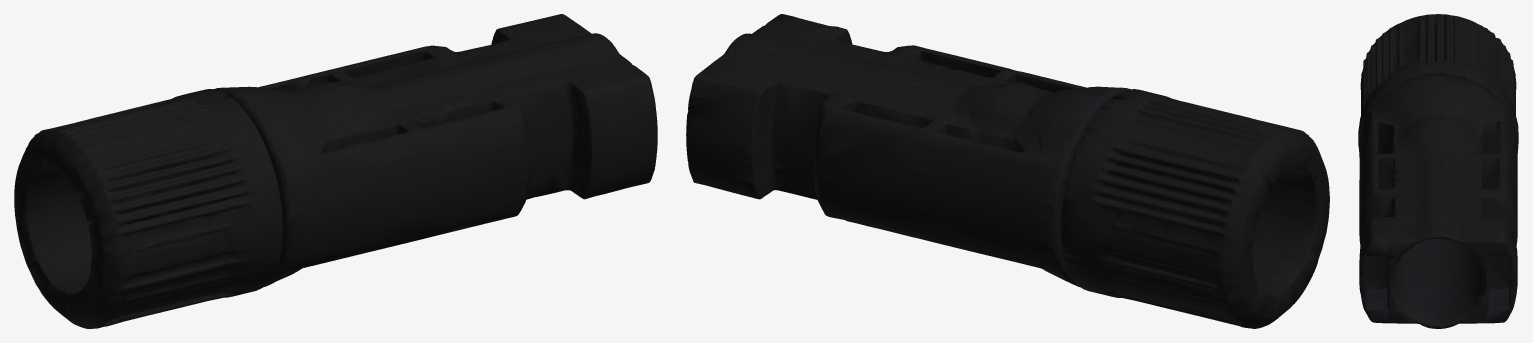
Rendered from Meshy_AI_Black_Cable_Connector_1105095505_texture_lowpoly.obj.
3 views of the same model, side by side, from view 1: azimuth 30°, elevation 25°; view 2: azimuth 150°, elevation 25°; view 3: azimuth 270°, elevation 25° (orthographic). The views are drawn at different scales.
Visible parts, largest first — view 1: Meshy_AI_Black_Cable_Connector_1105095505_texture_lowpoly; view 2: Meshy_AI_Black_Cable_Connector_1105095505_texture_lowpoly; view 3: Meshy_AI_Black_Cable_Connector_1105095505_texture_lowpoly.
Boxes of the visible parts, left/top/right/bottom form: Meshy_AI_Black_Cable_Connector_1105095505_texture_lowpoly: left=14, top=14, right=657, bottom=328; Meshy_AI_Black_Cable_Connector_1105095505_texture_lowpoly: left=686, top=14, right=1329, bottom=328; Meshy_AI_Black_Cable_Connector_1105095505_texture_lowpoly: left=1358, top=14, right=1518, bottom=328.
Bounding box in the file's own units: 0.0579 × 0.019 × 0.0193.
1 material, 1 textured.
